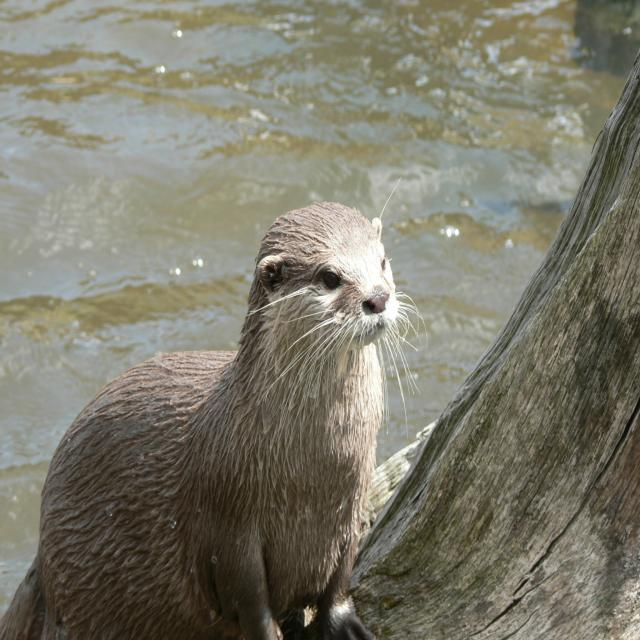otter: (1, 202, 399, 640)
